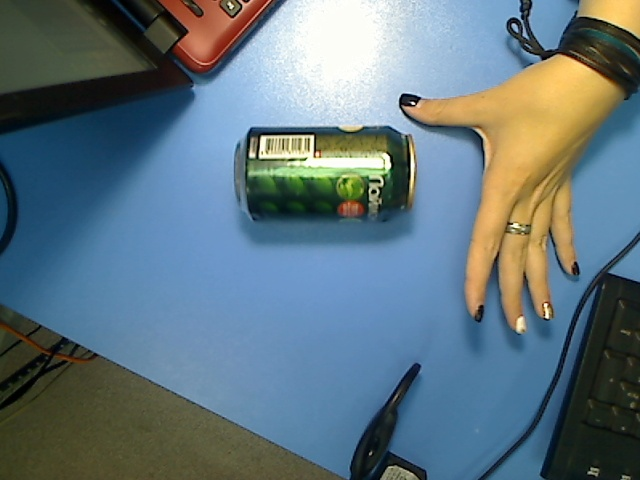can: (231, 126, 417, 225)
